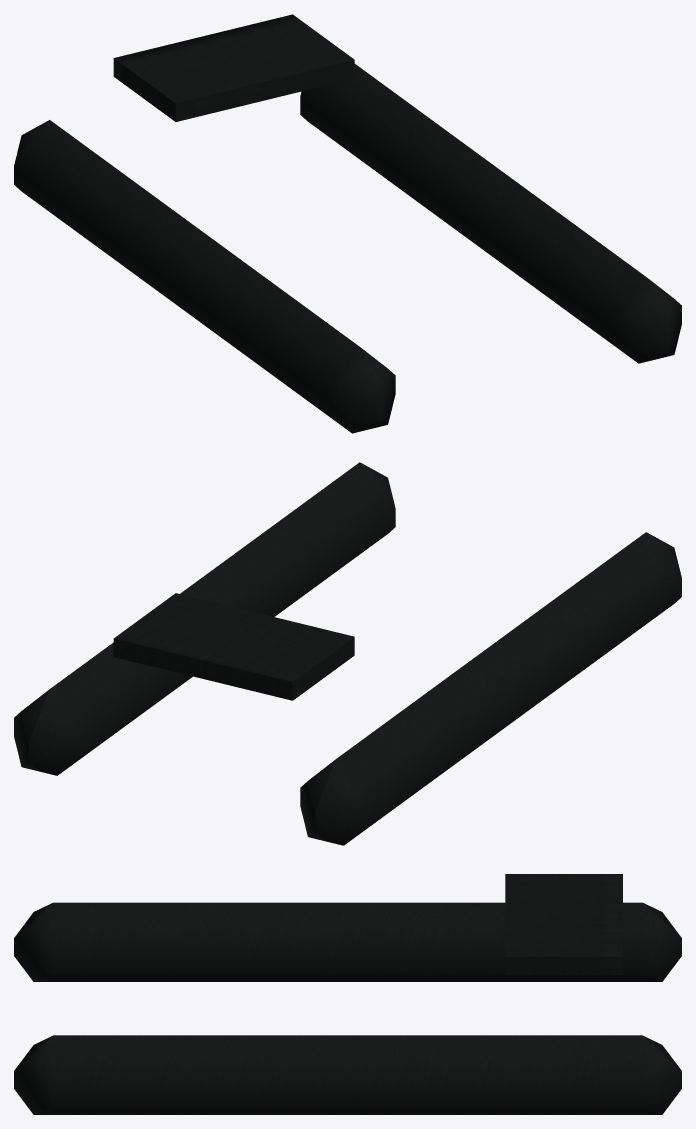
3 renders of one model, top to bottom at view 1: azimuth 30°, elevation 25°; view 2: azimuth 150°, elevation 25°; view 3: azimuth 270°, elevation 25°, orthographic. The views are drawn at different scales.
Bounding box in the file's own units: 3.4 × 1.19 × 5.78.
1 material, 1 textured.
